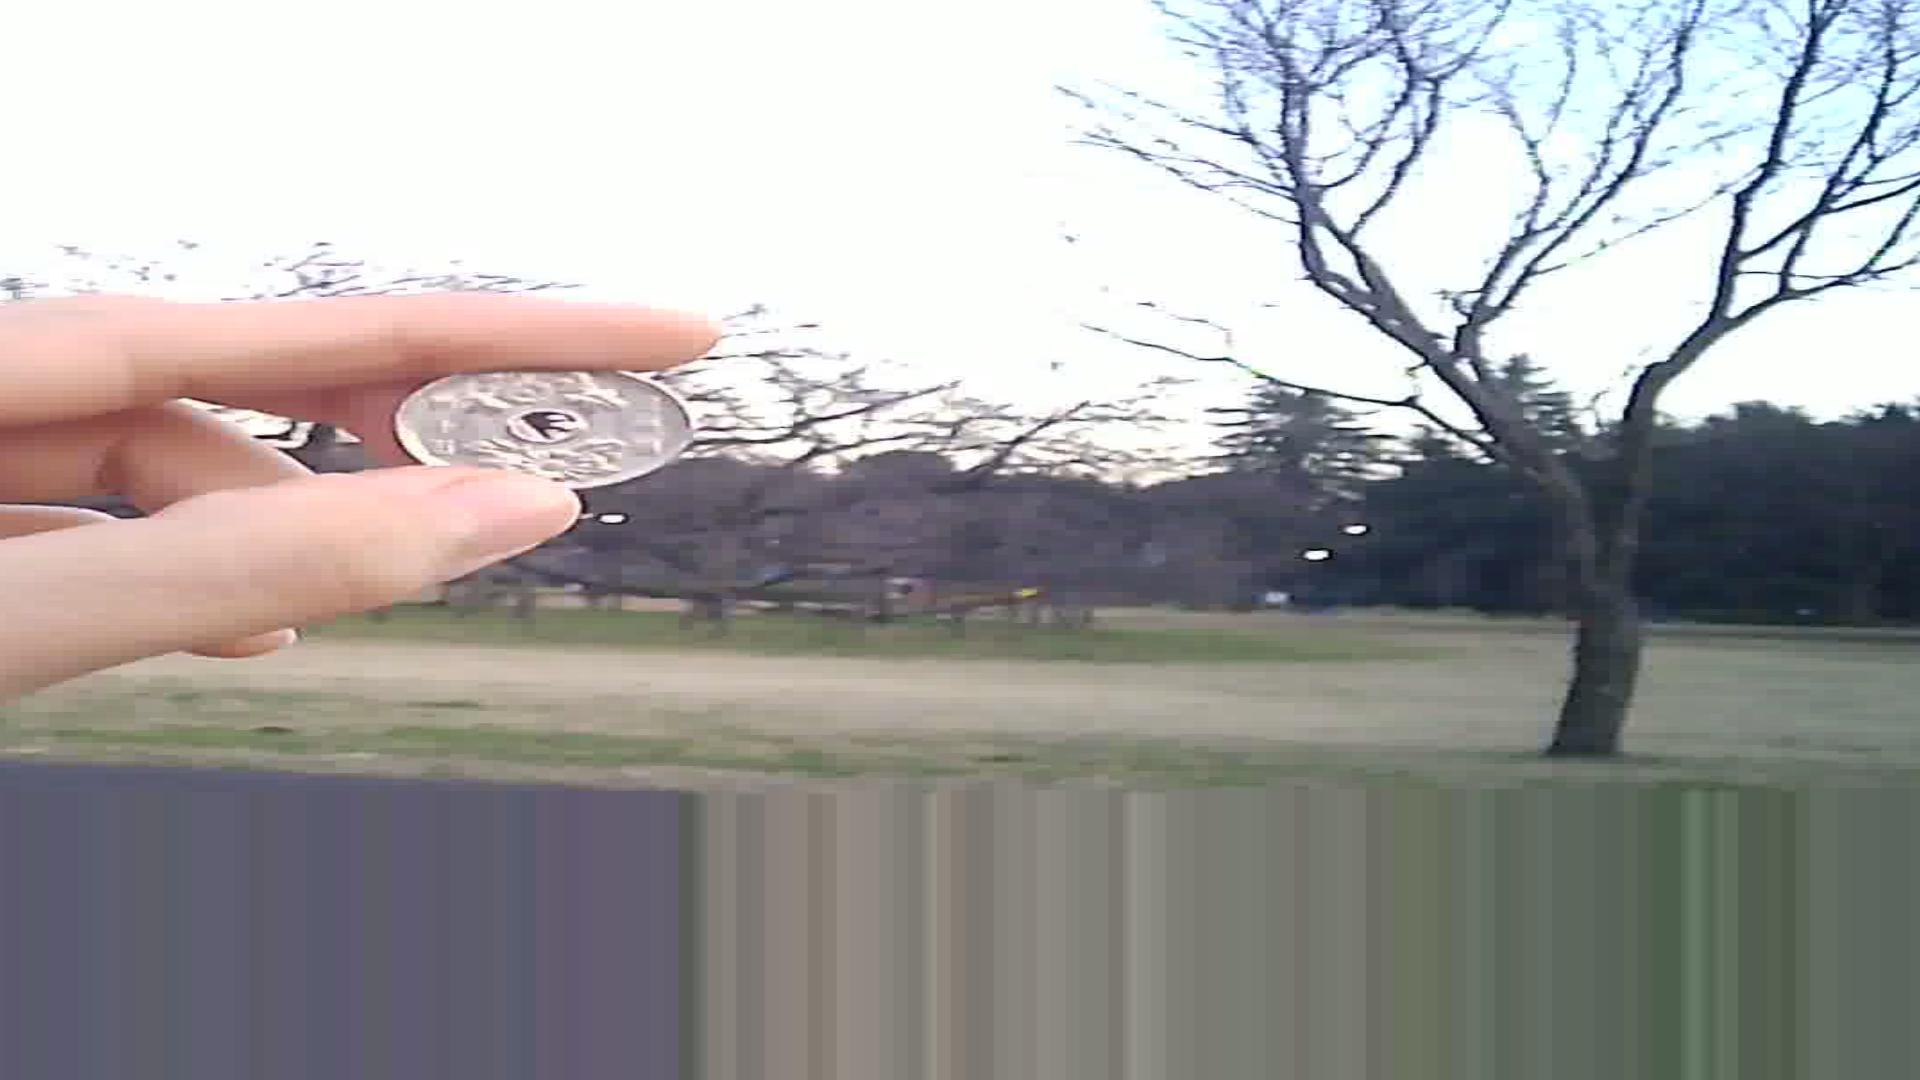50 Yen: (368, 347, 692, 512)
